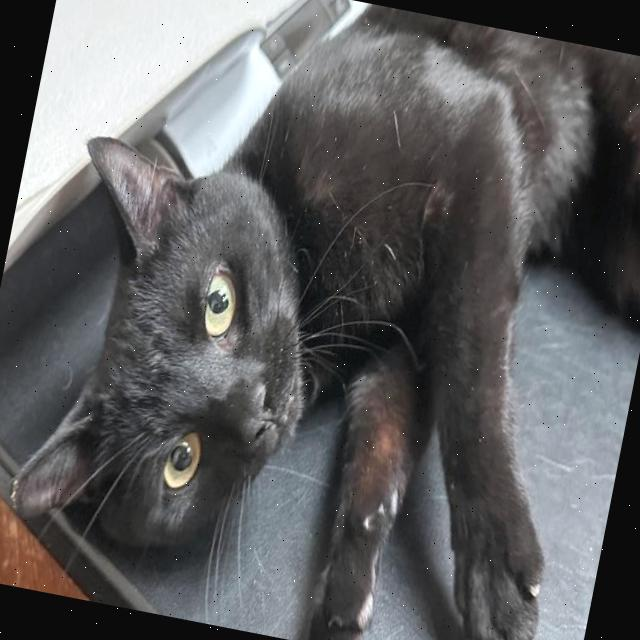bombay_cat: (0, 117, 361, 591)
